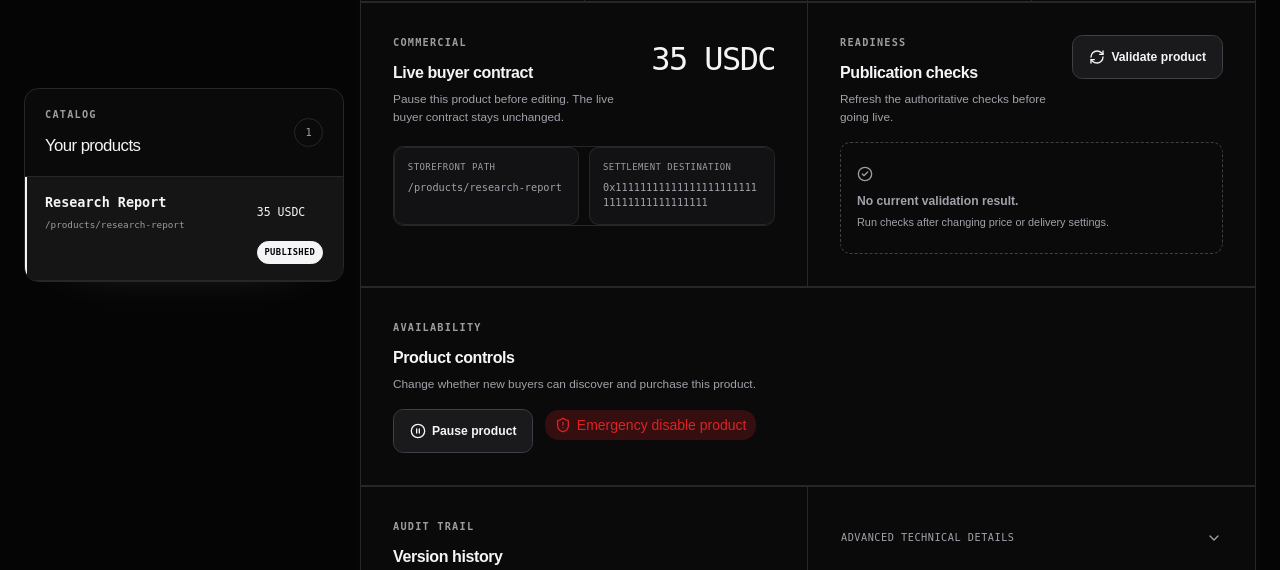
Scenario: product route workspace › requires confirmation before emergency disable
The width and height of the screenshot is (1280, 570).
(page scrolled)
Click the button "Emergency disable product" at (651, 425), box [544,409,758,441]
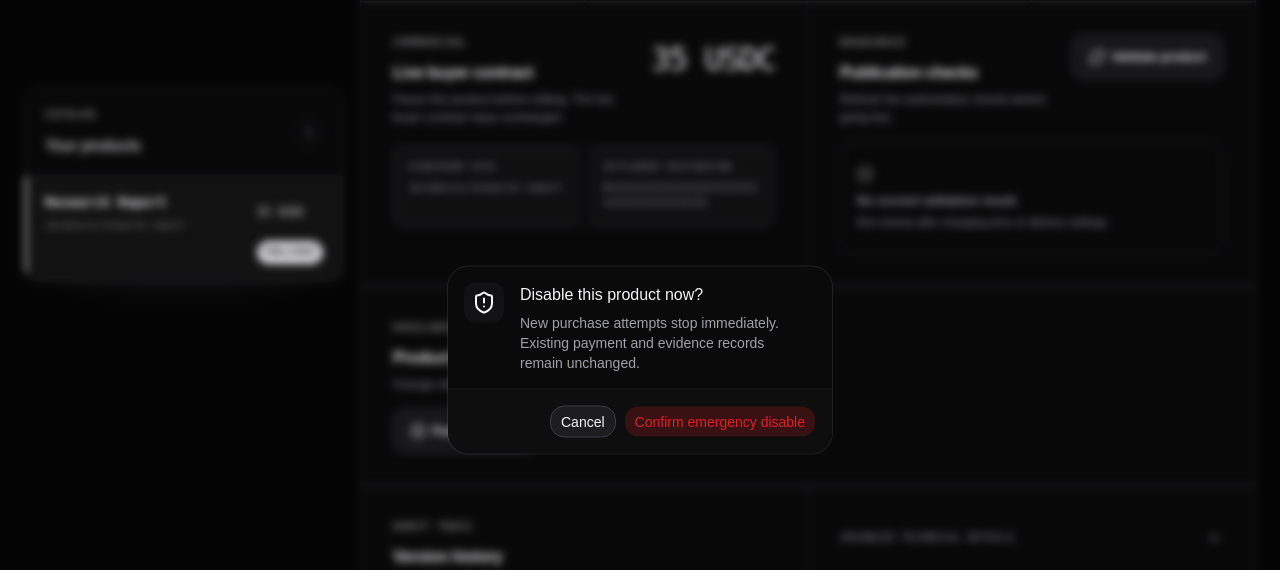
Expected: the heading "Disable this product now?" is shown, [520,282,703,306]
Click the button "Confirm emergency disable" at (720, 422), box [624,406,816,438]
(page scrolled)
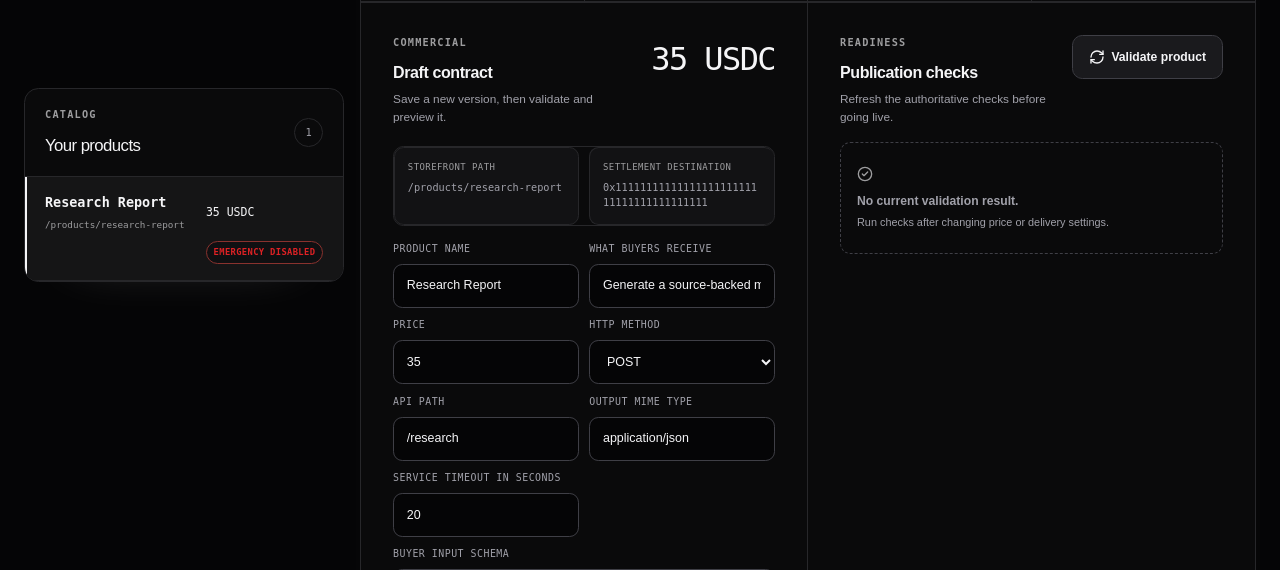
Expected: the text "Emergency disabled" is shown, [206,242,323,265]
